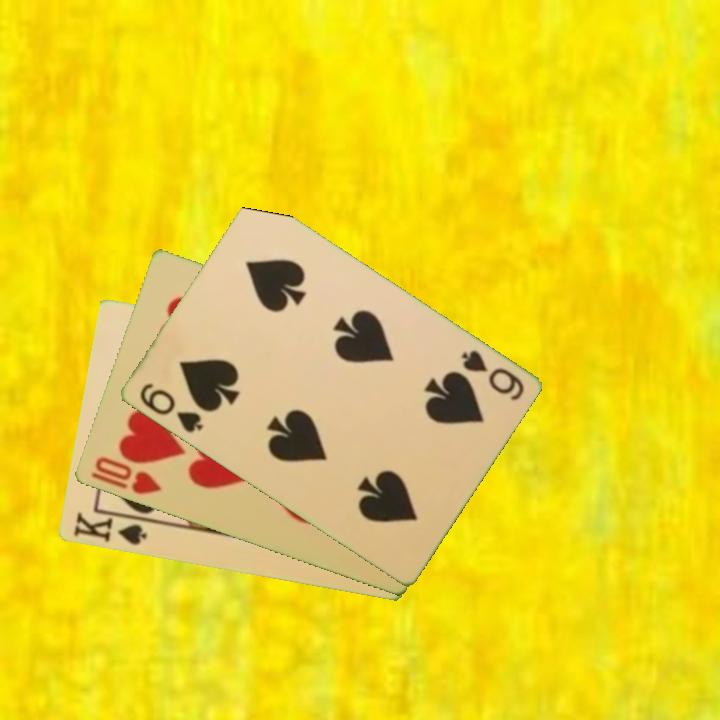10h: (87, 453, 164, 498)
6s: (457, 346, 527, 404), (135, 379, 206, 436)
Ks: (69, 509, 150, 549)
